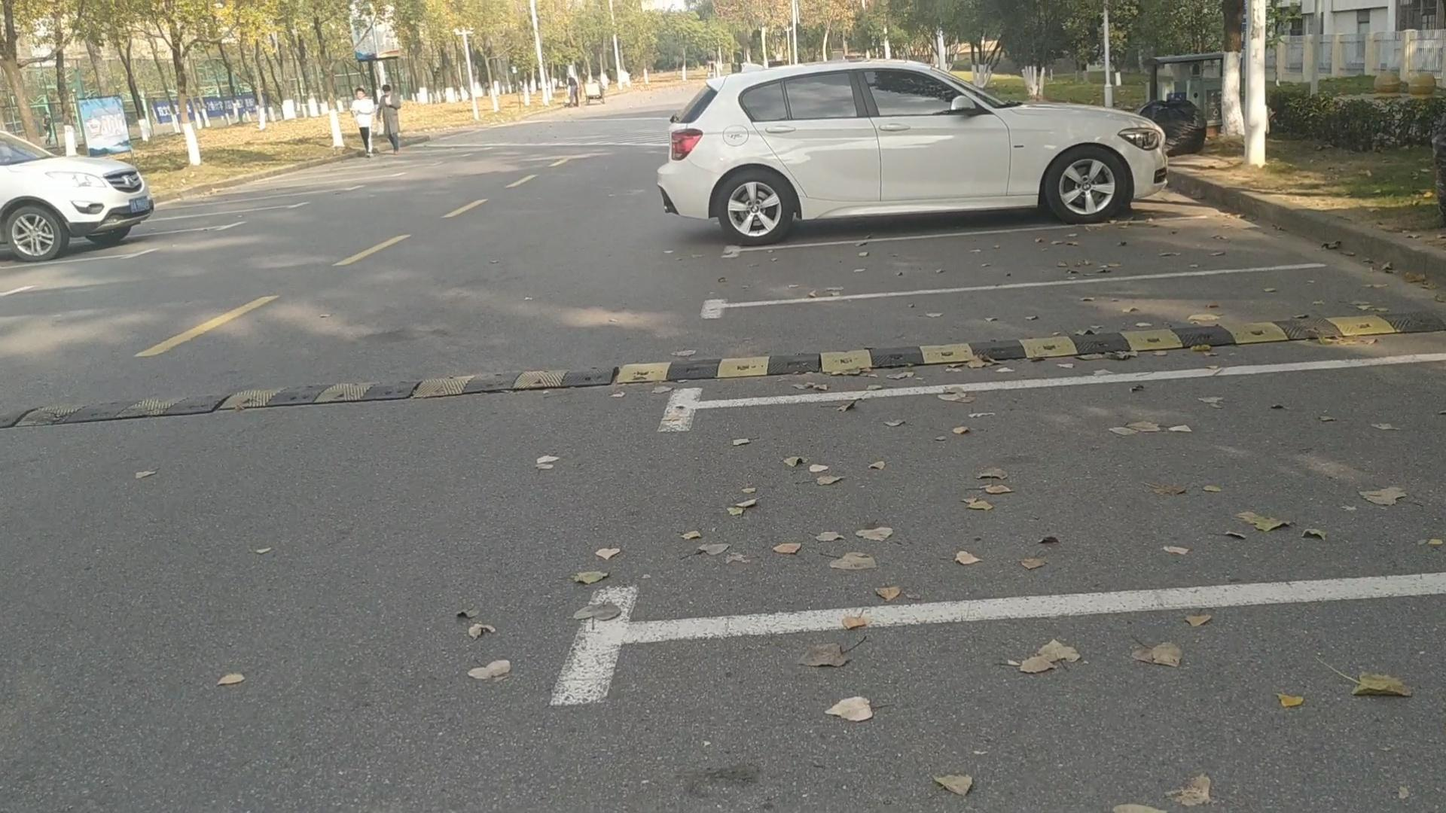car: (657, 59, 1170, 242), (2, 128, 154, 263), (1136, 95, 1204, 153)
